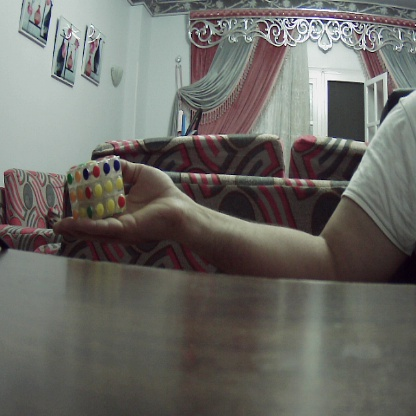Rubix Cube: (66, 155, 131, 215)
